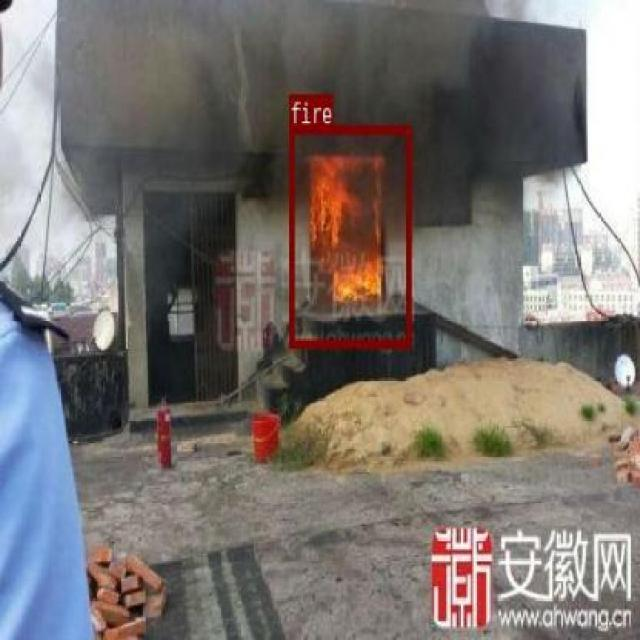Fire: (288, 125, 410, 346)
Smoke: (152, 2, 514, 106)
